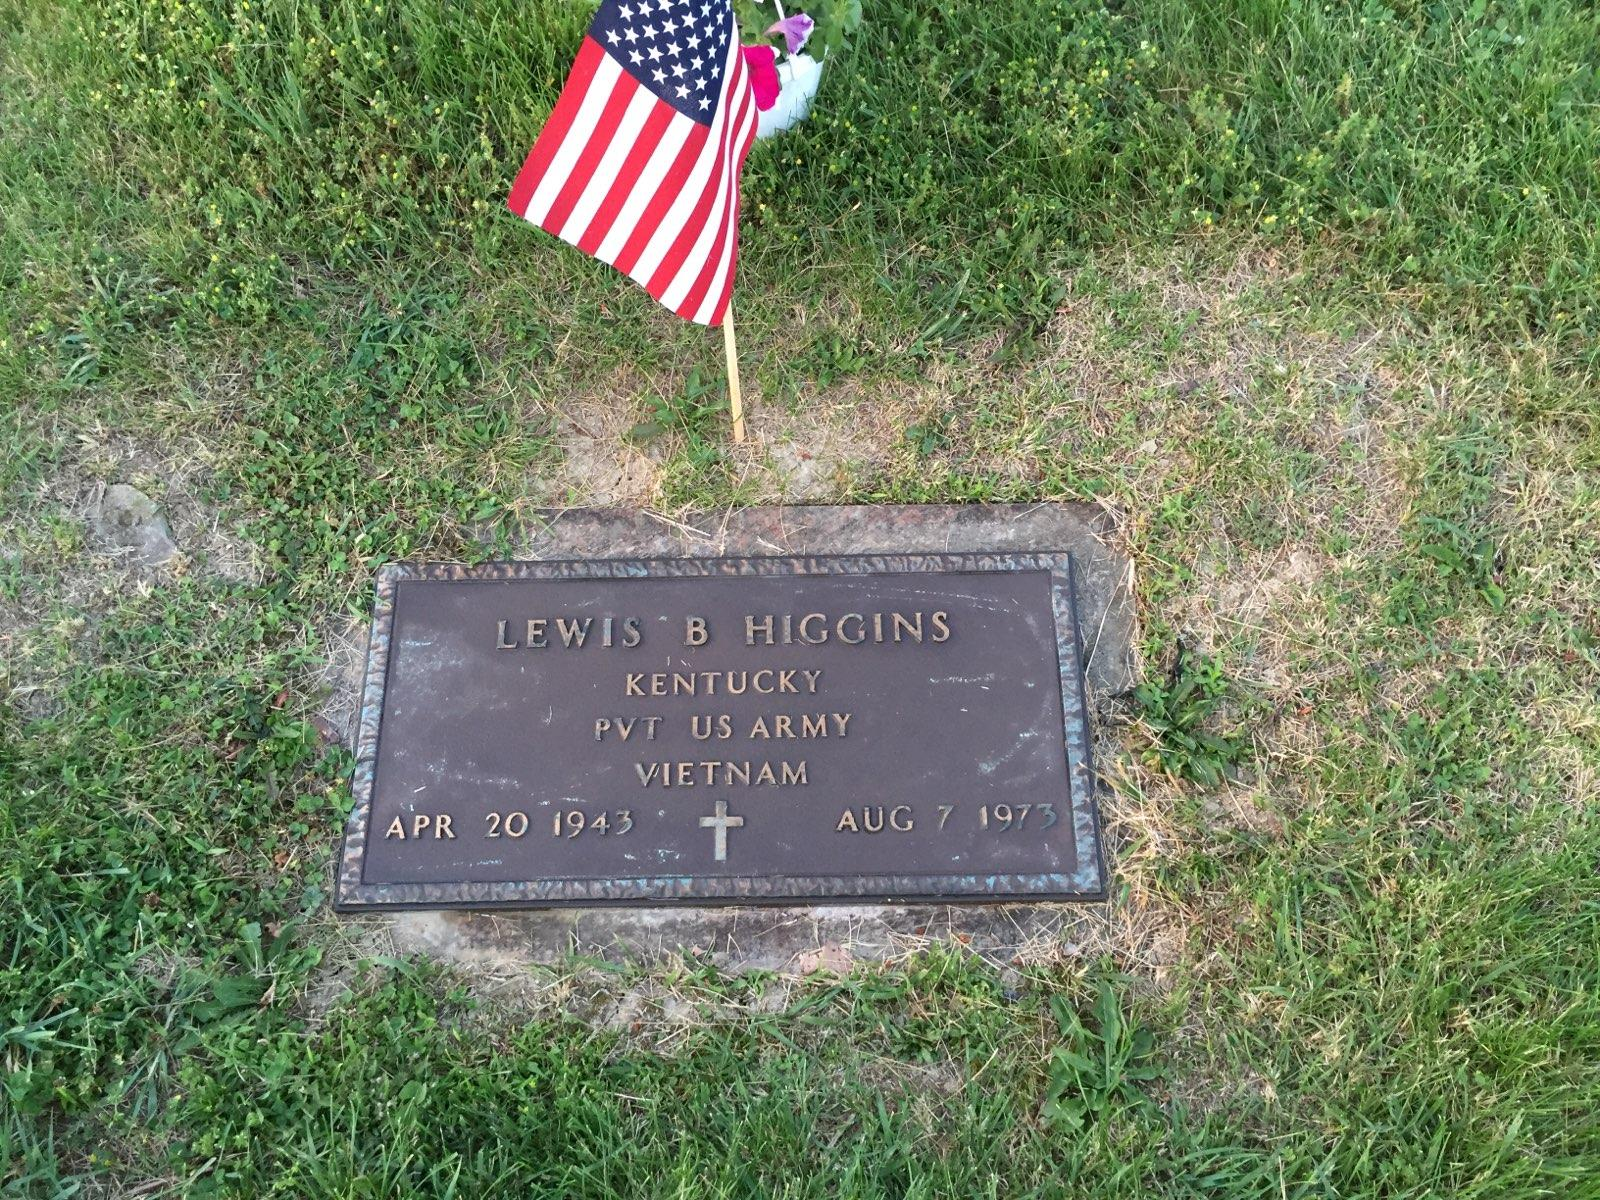flat: (340, 552, 1107, 910)
